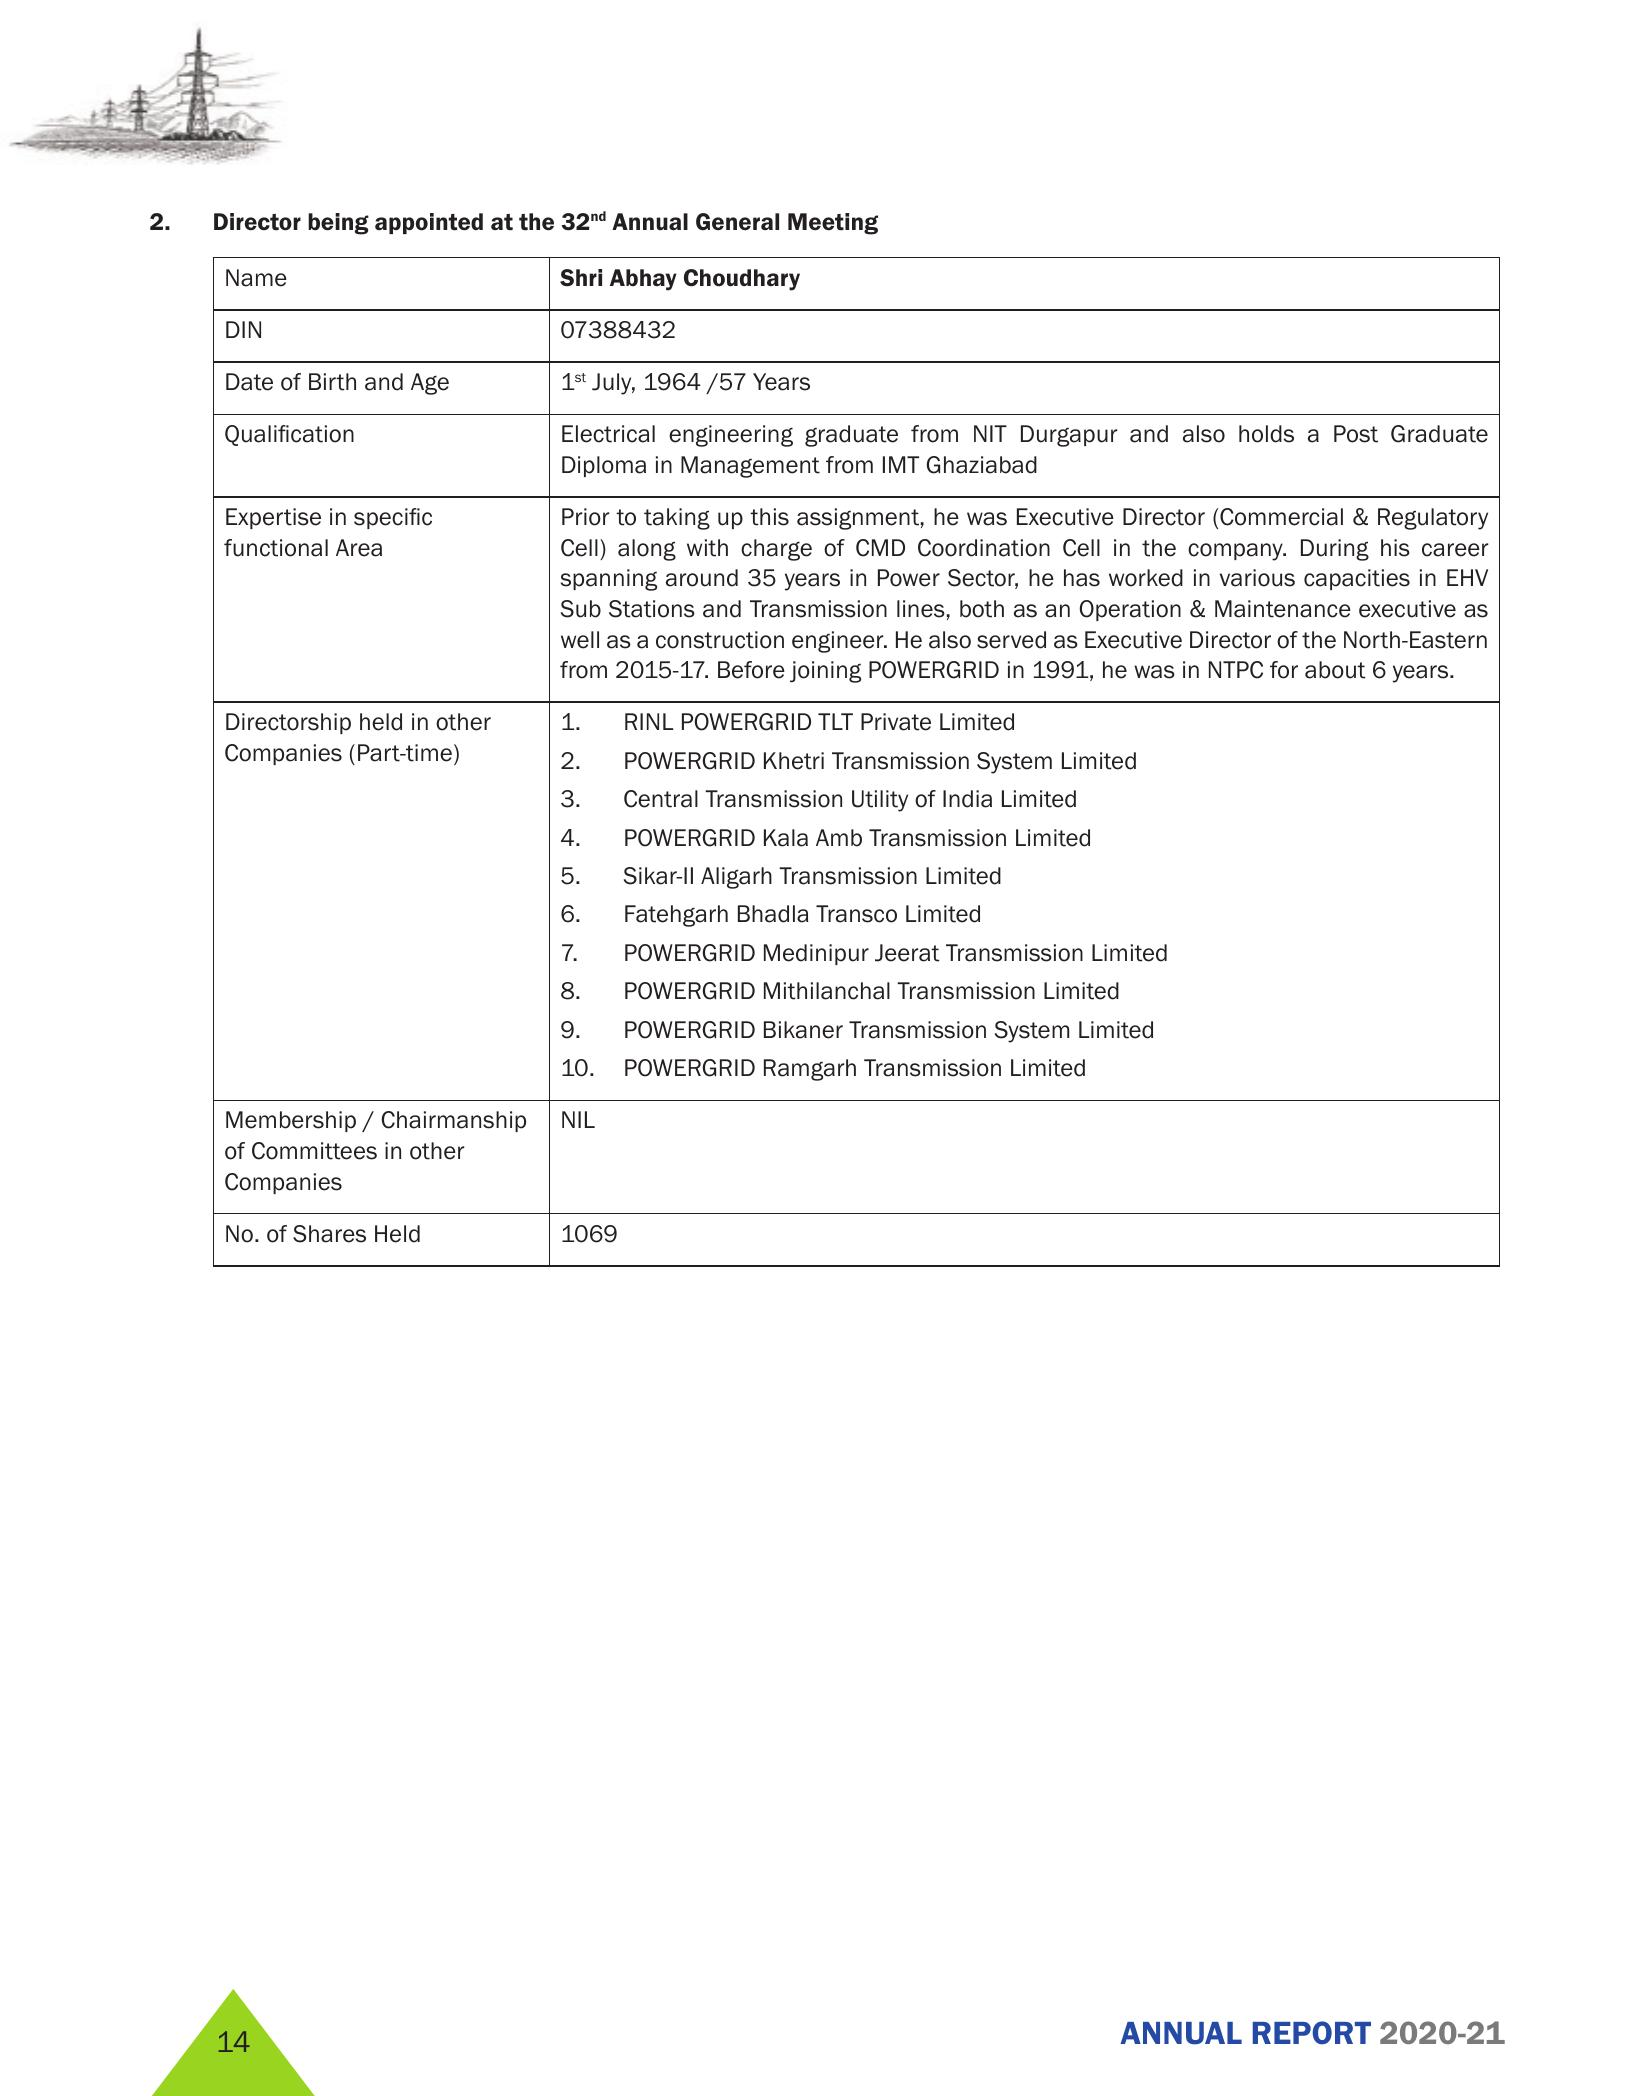Footer: (0, 1965, 1650, 2096)
Header: (0, 0, 1650, 175)
Table: (184, 245, 1533, 1291)
